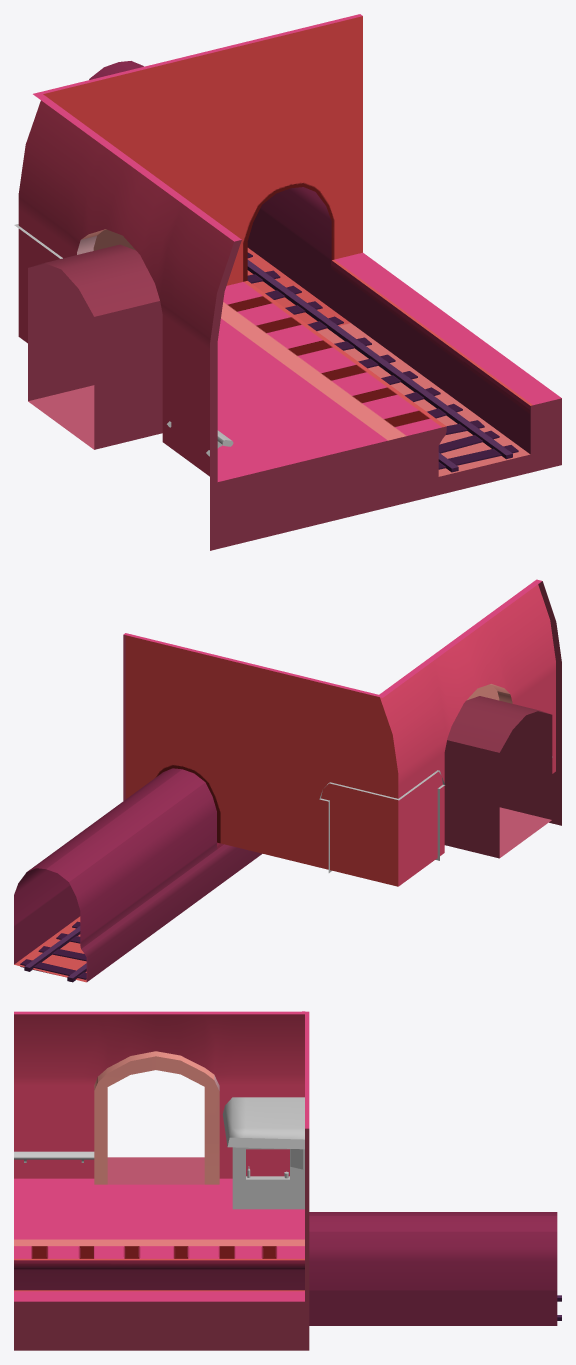
Rendered from station 4.fbx.
3 views of the same model, one above another, from view 1: azimuth 30°, elevation 25°; view 2: azimuth 150°, elevation 25°; view 3: azimuth 270°, elevation 25° (orthographic). The views are drawn at different scales.
Visible parts, largest first — view 1: env_4, track_6; view 2: env_4, track_6, pCube75; view 3: env_4, pCube75, pCube77.
Part boxes in pixels (box(x1,y1,x2,y2)): env_4: box(18, 14, 561, 550); track_6: box(247, 252, 518, 472); env_4: box(14, 579, 561, 982); track_6: box(20, 921, 86, 982); pCube75: box(319, 770, 444, 872); env_4: box(14, 1011, 557, 1350); pCube75: box(222, 1097, 304, 1209); pCube77: box(14, 1151, 94, 1162).
Bounding box in the file's own units: 23.18 × 16.64 × 37.24.
